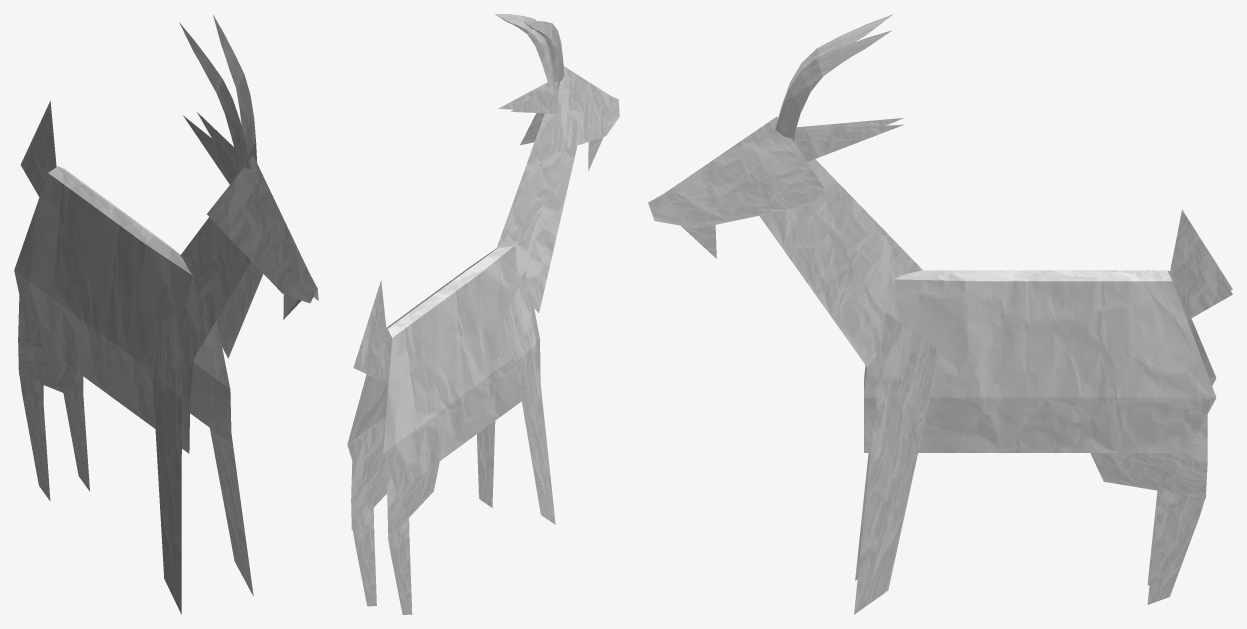
File: ziegenbock.fbx
3 renders of one model, left to right at view 1: azimuth 30°, elevation 25°; view 2: azimuth 150°, elevation 25°; view 3: azimuth 270°, elevation 25°, orthographic. The views are drawn at different scales.
Visible parts, largest first — view 1: koerper, hals, vorderbein_rechts, kopf, vorderbein_links, beinschenkel_links, hinterbein_rechts, schwanz, horn_rechts, hinterbein_links, horn_links, ohr_rechts; view 2: koerper, hals, vorderbein_rechts, kopf, beinschenkel_rechts, schwanz, beinschenkel_links, hinterbein_links, hinterbein_rechts, vorderbein_links, horn_links, horn_rechts (+2 smaller); view 3: koerper, hals, vorderbein_links, kopf, beinschenkel_rechts, hinterbein_links, schwanz, horn_links, ohr_links, horn_rechts.
Boxes of the visible parts, x1=… form: koerper: x1=14, y1=166, x2=231, y2=453; hals: x1=180, y1=217, x2=263, y2=368; vorderbein_rechts: x1=152, y1=307, x2=185, y2=614; kopf: x1=207, y1=155, x2=318, y2=303; vorderbein_links: x1=210, y1=428, x2=253, y2=596; beinschenkel_links: x1=18, y1=295, x2=76, y2=395; hinterbein_rechts: x1=19, y1=375, x2=50, y2=500; schwanz: x1=20, y1=100, x2=56, y2=196; horn_rechts: x1=179, y1=22, x2=250, y2=171; hinterbein_links: x1=63, y1=372, x2=89, y2=491; horn_links: x1=213, y1=15, x2=256, y2=162; ohr_rechts: x1=183, y1=115, x2=239, y2=184; koerper: x1=347, y1=245, x2=540, y2=492; hals: x1=496, y1=113, x2=577, y2=312; vorderbein_rechts: x1=503, y1=271, x2=555, y2=524; kopf: x1=520, y1=66, x2=619, y2=153; beinschenkel_rechts: x1=351, y1=420, x2=386, y2=530; schwanz: x1=353, y1=280, x2=389, y2=383; beinschenkel_links: x1=386, y1=461, x2=439, y2=539; hinterbein_links: x1=352, y1=494, x2=376, y2=606; hinterbein_rechts: x1=387, y1=518, x2=412, y2=614; vorderbein_links: x1=477, y1=421, x2=495, y2=507; horn_links: x1=495, y1=14, x2=554, y2=84; horn_rechts: x1=524, y1=20, x2=564, y2=88; koerper: x1=864, y1=270, x2=1216, y2=452; hals: x1=759, y1=159, x2=922, y2=367; vorderbein_links: x1=854, y1=313, x2=940, y2=614; kopf: x1=648, y1=116, x2=832, y2=228; beinschenkel_rechts: x1=1090, y1=415, x2=1207, y2=498; hinterbein_links: x1=1147, y1=490, x2=1206, y2=604; schwanz: x1=1169, y1=209, x2=1232, y2=320; horn_links: x1=775, y1=30, x2=891, y2=141; ohr_links: x1=794, y1=124, x2=903, y2=161; horn_rechts: x1=778, y1=14, x2=893, y2=130.
Size of the model in its own units: 45.56 by 348 by 321.
Materials: 15 (15 with a texture image).
